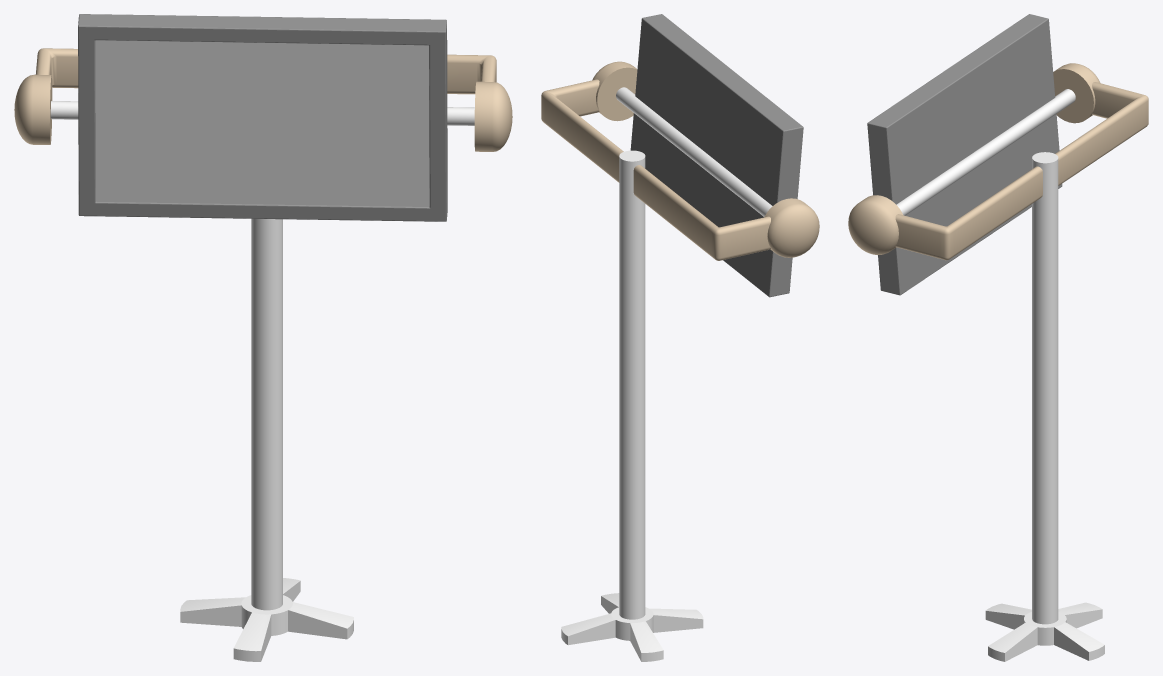
File: TvAssembly.fbx
3 views of the same model, side by side, from view 1: azimuth 30°, elevation 25°; view 2: azimuth 150°, elevation 25°; view 3: azimuth 270°, elevation 25° (orthographic). The views are drawn at different scales.
Parts seen in each view (by area): view 1: screen.001, tv.001, Tv_assembly.001, end caps.002, arms.002, Cylinder.001; view 2: tv.001, Tv_assembly.001, arms.002, end caps.002, Cylinder.001; view 3: tv.001, Tv_assembly.001, arms.002, end caps.002, Cylinder.001.
Boxes of the visible parts, <box> form: screen.001: <box>95,40,429,206</box>; tv.001: <box>78,14,447,221</box>; Tv_assembly.001: <box>180,218,353,661</box>; end caps.002: <box>14,74,512,151</box>; arms.002: <box>35,48,496,94</box>; Cylinder.001: <box>50,101,474,125</box>; tv.001: <box>630,14,803,297</box>; Tv_assembly.001: <box>561,150,703,661</box>; arms.002: <box>541,79,770,260</box>; end caps.002: <box>592,61,819,257</box>; Cylinder.001: <box>616,87,772,216</box>; tv.001: <box>867,14,1062,295</box>; Tv_assembly.001: <box>985,152,1104,661</box>; arms.002: <box>895,82,1148,260</box>; end caps.002: <box>848,63,1100,255</box>; Cylinder.001: <box>896,89,1075,215</box>.
Size of the model in its own units: 139 by 215 by 108.
